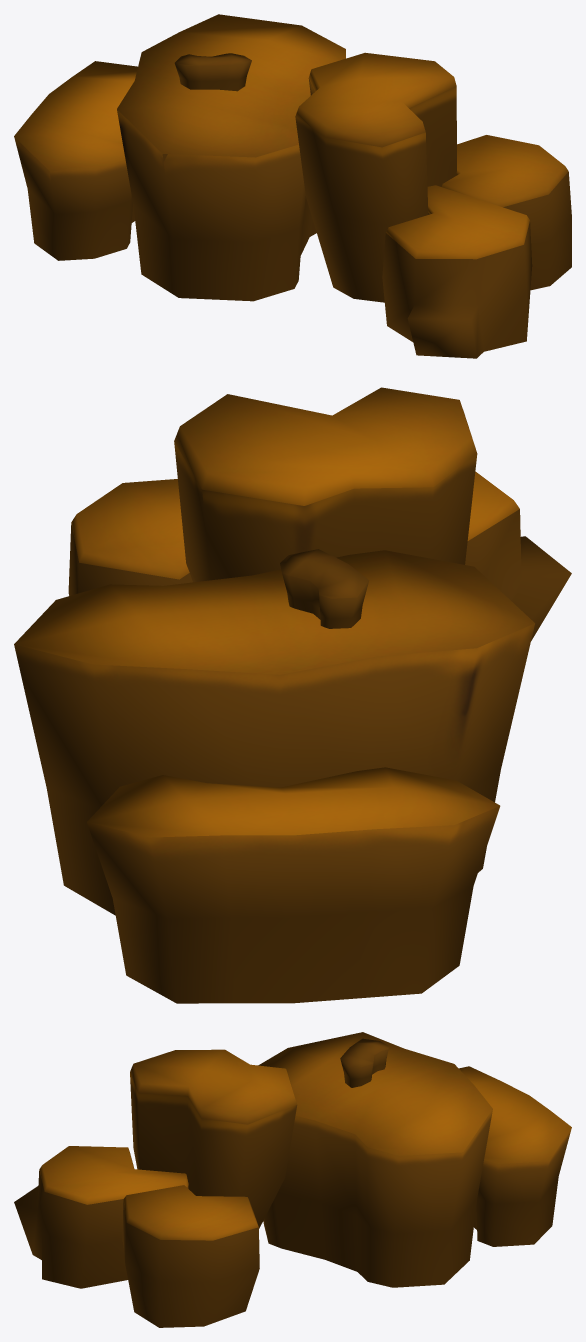
File: Mountain.fbx
3 views of the same model, one above another, from view 1: azimuth 30°, elevation 25°; view 2: azimuth 150°, elevation 25°; view 3: azimuth 270°, elevation 25° (orthographic). The views are drawn at different scales.
Parts seen in each view (by area): view 1: Rock.001; view 2: Rock.001; view 3: Rock.001.
Part boxes in pixels (x1,y1,x2,y2): Rock.001: [14, 14, 571, 358]; Rock.001: [14, 387, 571, 1003]; Rock.001: [14, 1032, 571, 1327].
Size of the model in its own units: 166 by 85.68 by 229.
